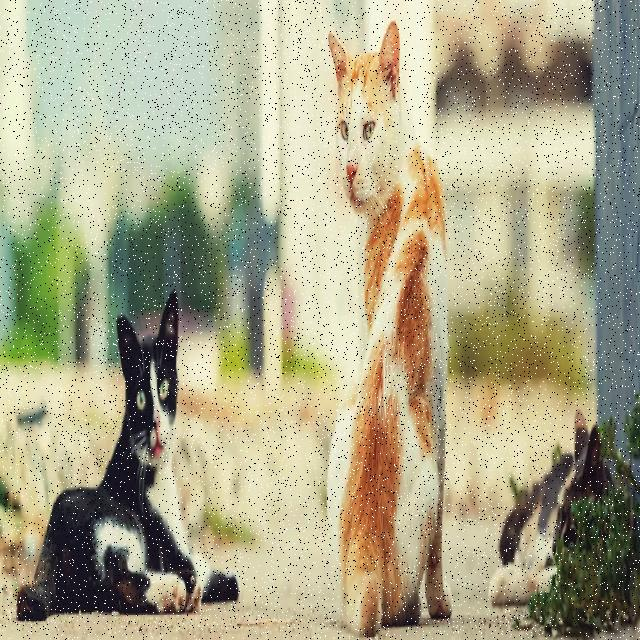cat: (328, 23, 451, 634), (18, 292, 239, 621), (489, 409, 606, 606)
